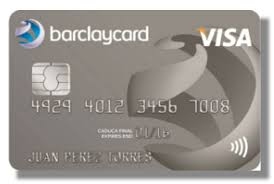tarjeta: (8, 10, 262, 171)
